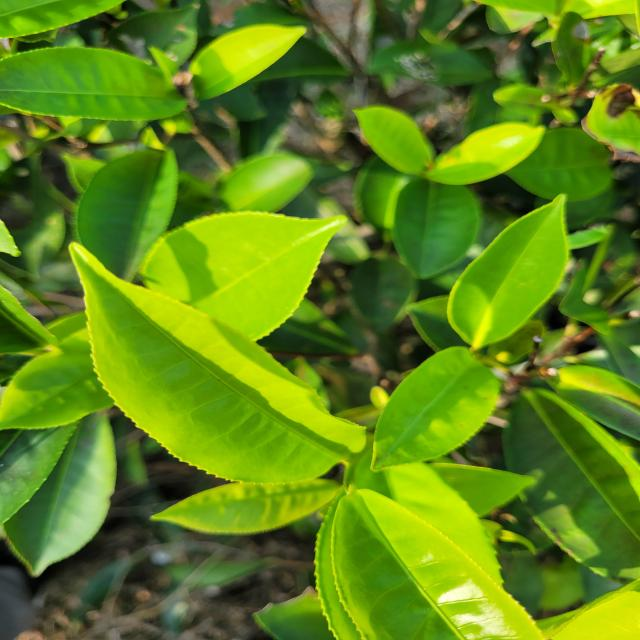Category B(2-4 days): (38, 222, 394, 524)
